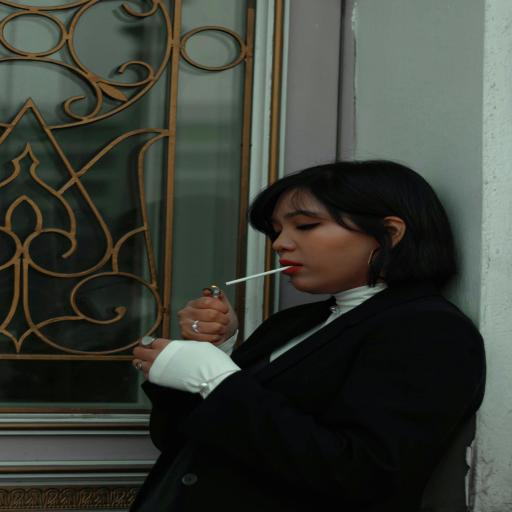terdeteksi merokok: (200, 207, 317, 313)
